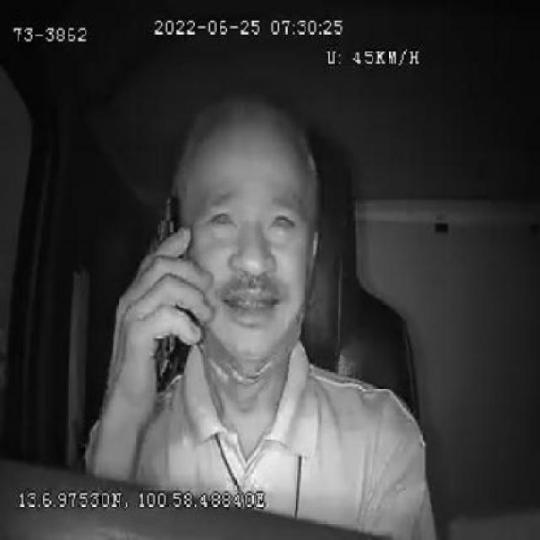phone: (142, 190, 193, 396)
